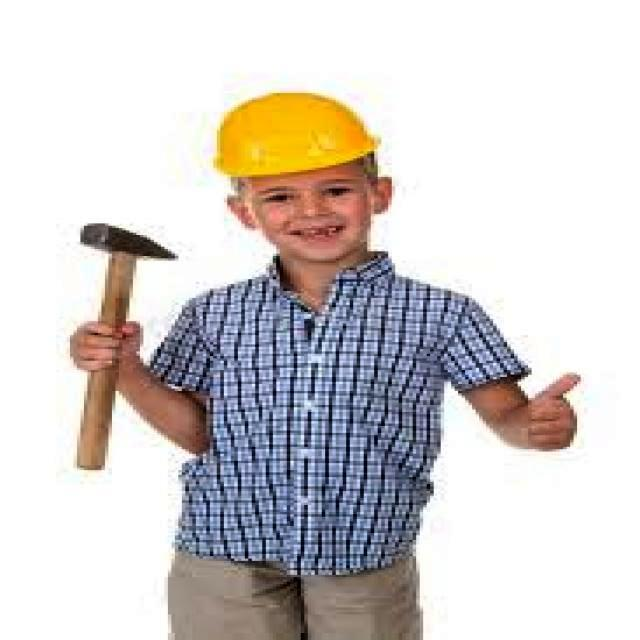hammer: (51, 222, 188, 474)
